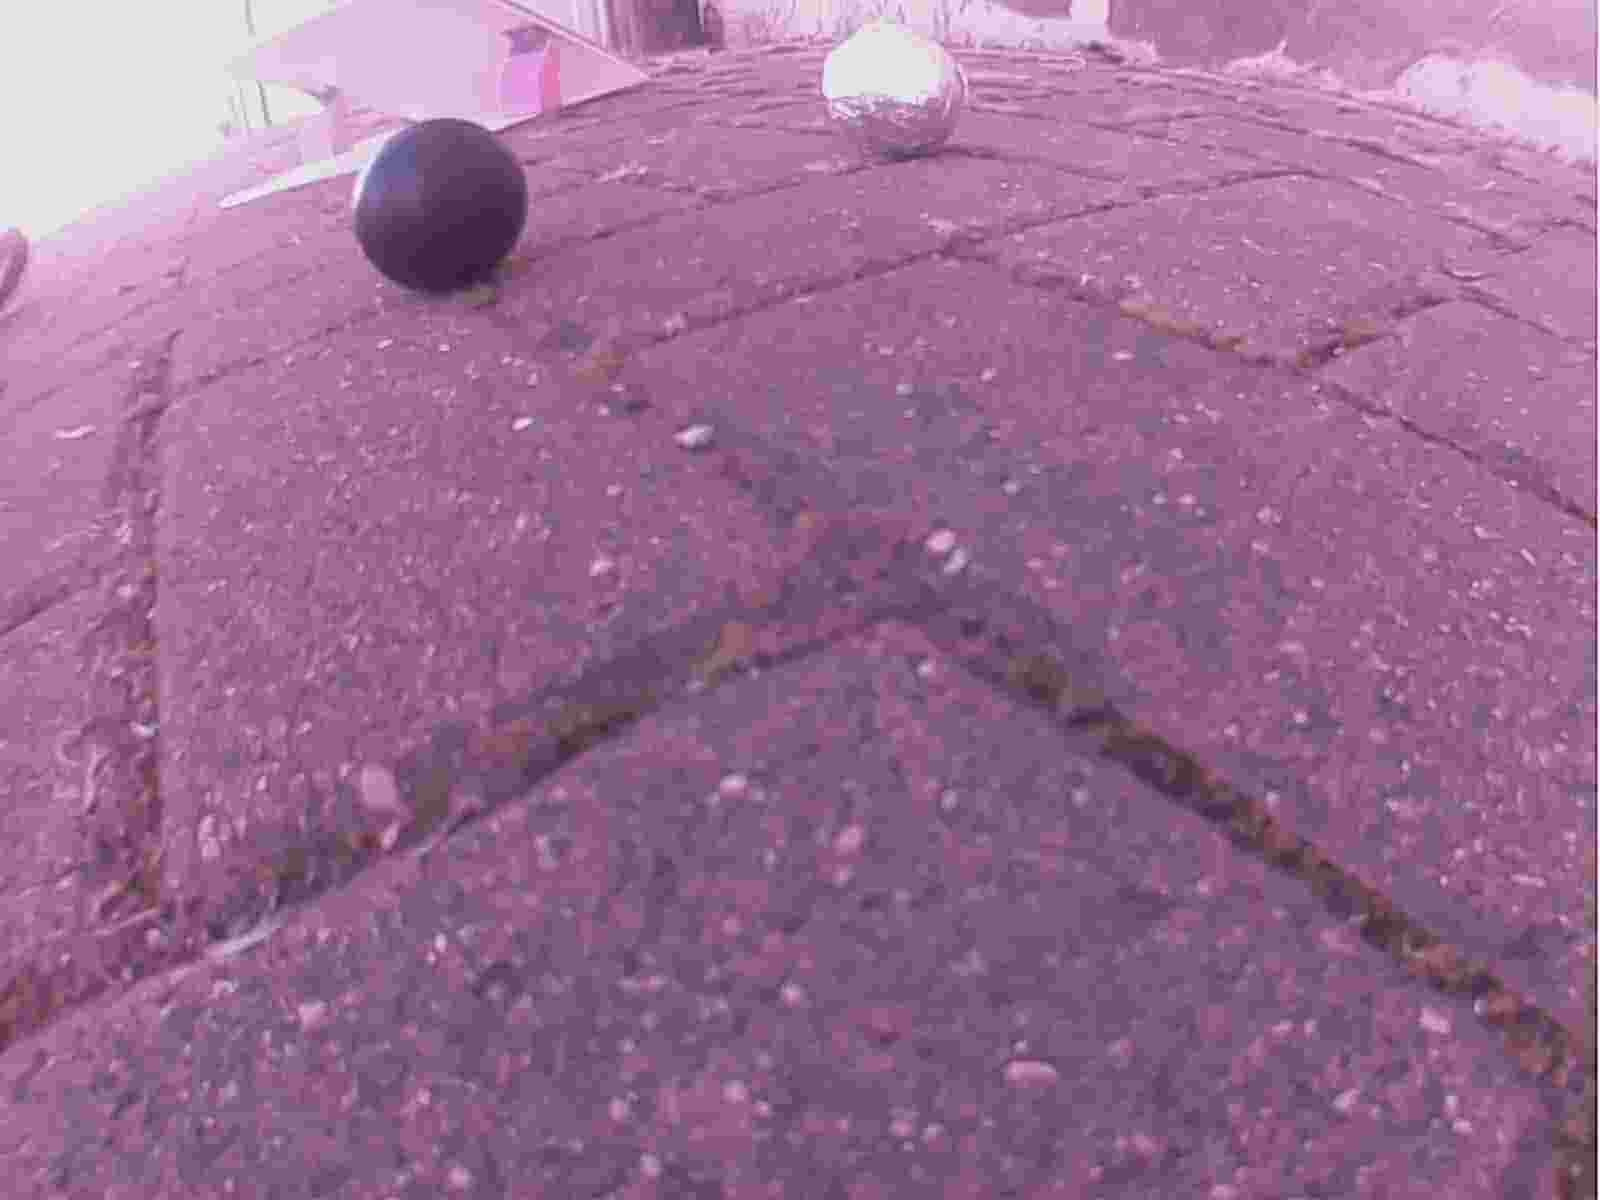bianca: (824, 20, 966, 164)
nera: (350, 116, 527, 285)
